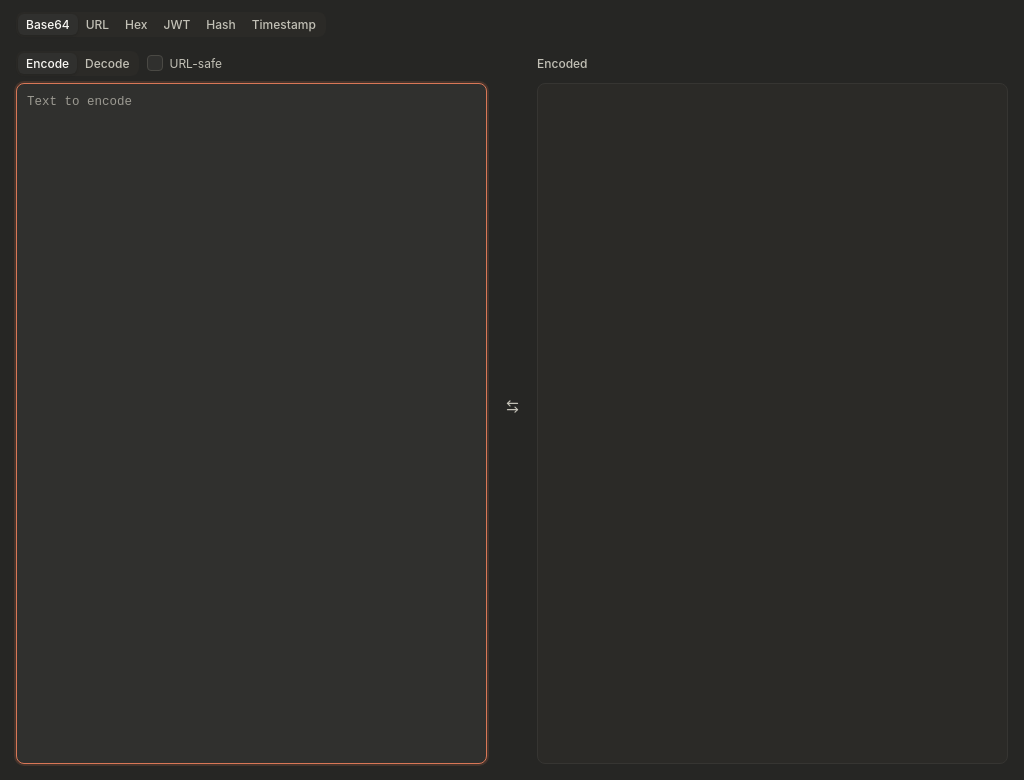
Test case: tool views › encoders convert as you type and switch modes
Type "héllo" into the text box named "Input".
click(252, 424); type("héllo")  # box top-left (16, 83), bottom-right (487, 764)
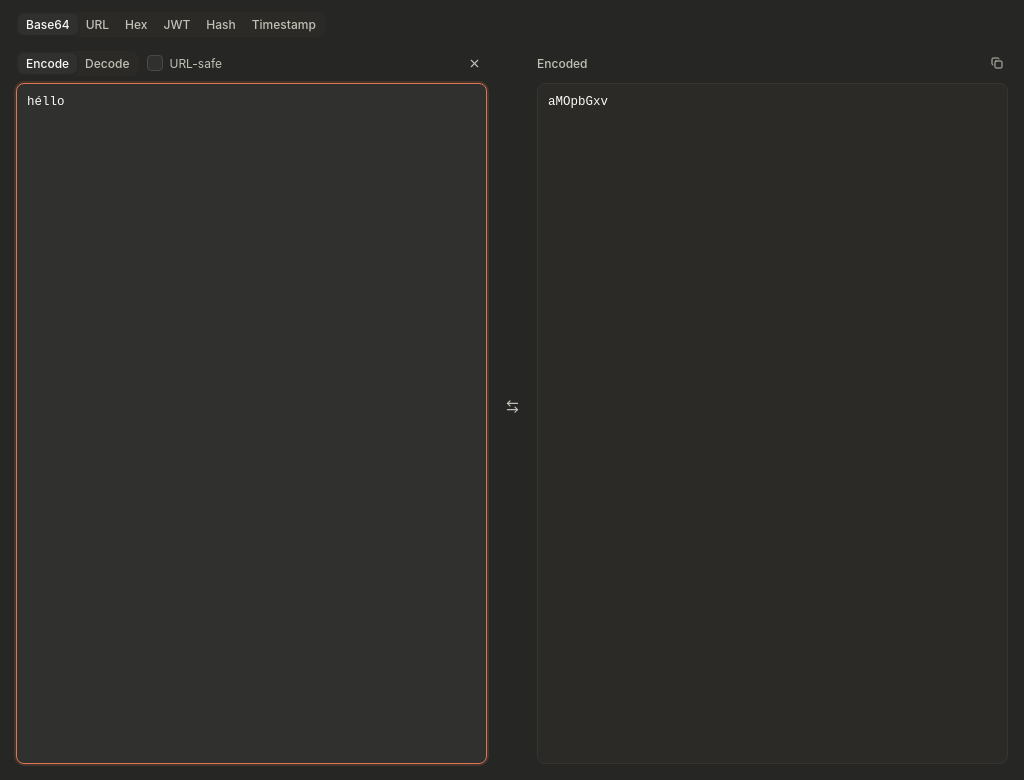
Expected: the text box named "Output" holds "aMOpbGxv", top-left (537, 83), bottom-right (1008, 764)
Click the button "Decode".
click(107, 63)  # box top-left (77, 53), bottom-right (138, 74)
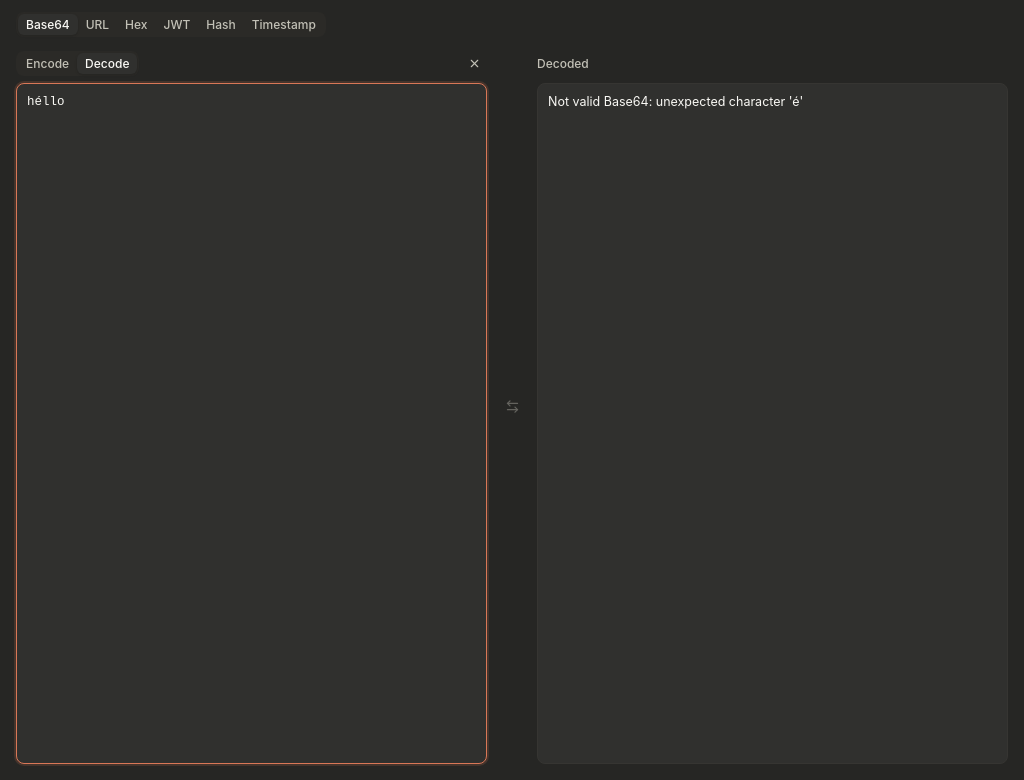
Expected: the message shows "Base64", top-left (548, 94), bottom-right (803, 109)
Click the button "Timestamp".
click(284, 25)  # box top-left (244, 14), bottom-right (324, 35)
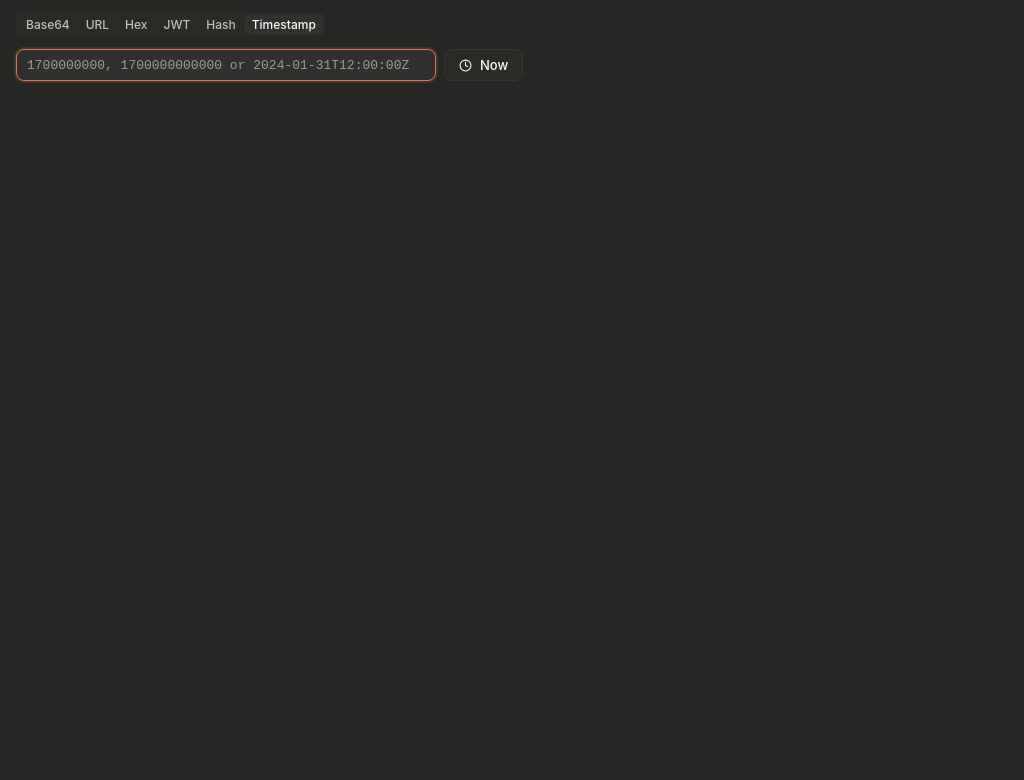
Type "0" into the field named "Timestamp or date".
click(226, 65); type("0")  # box top-left (16, 49), bottom-right (436, 81)
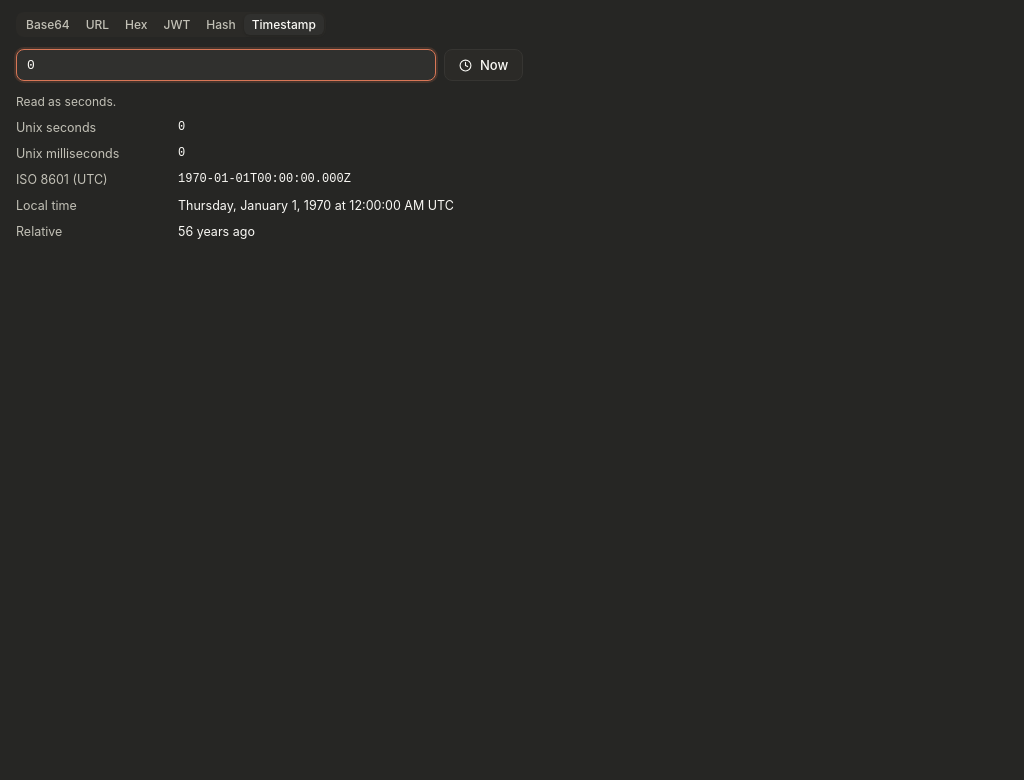
Expected: the text "1970-01-01T00:00:00.000Z" is shown, top-left (178, 171), bottom-right (351, 188)
Click the button "JWT".
click(177, 25)  # box top-left (156, 14), bottom-right (198, 35)
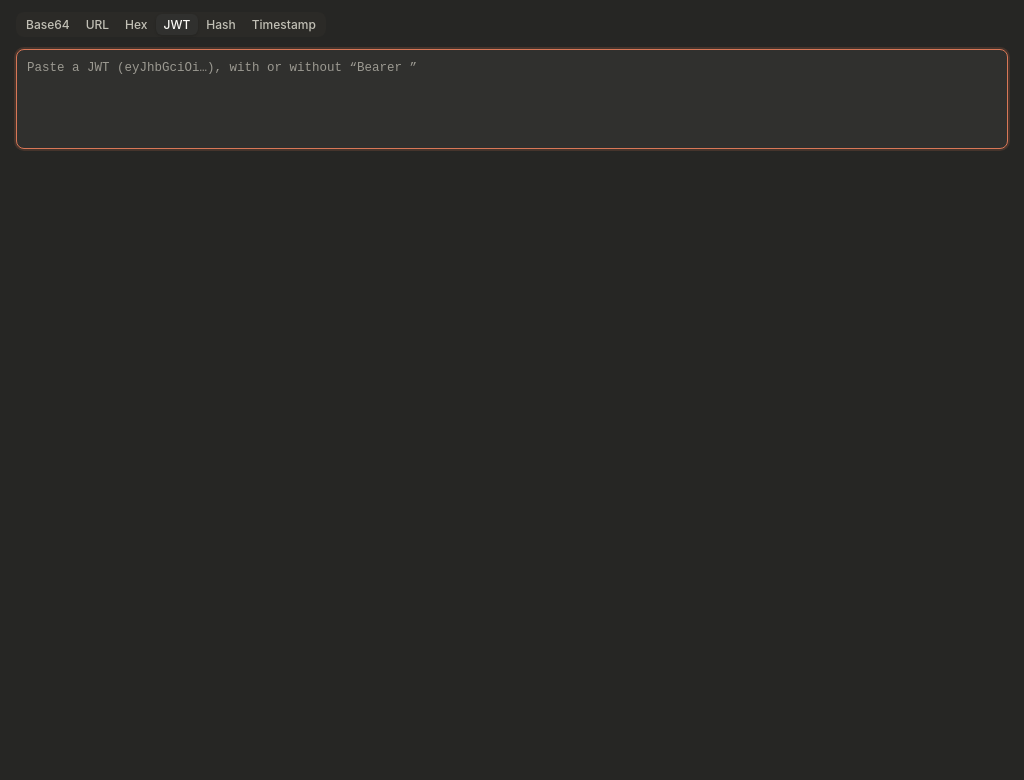
Type "abc.def" into the text box named "Token".
click(512, 99); type("abc.def")  # box top-left (16, 49), bottom-right (1008, 149)
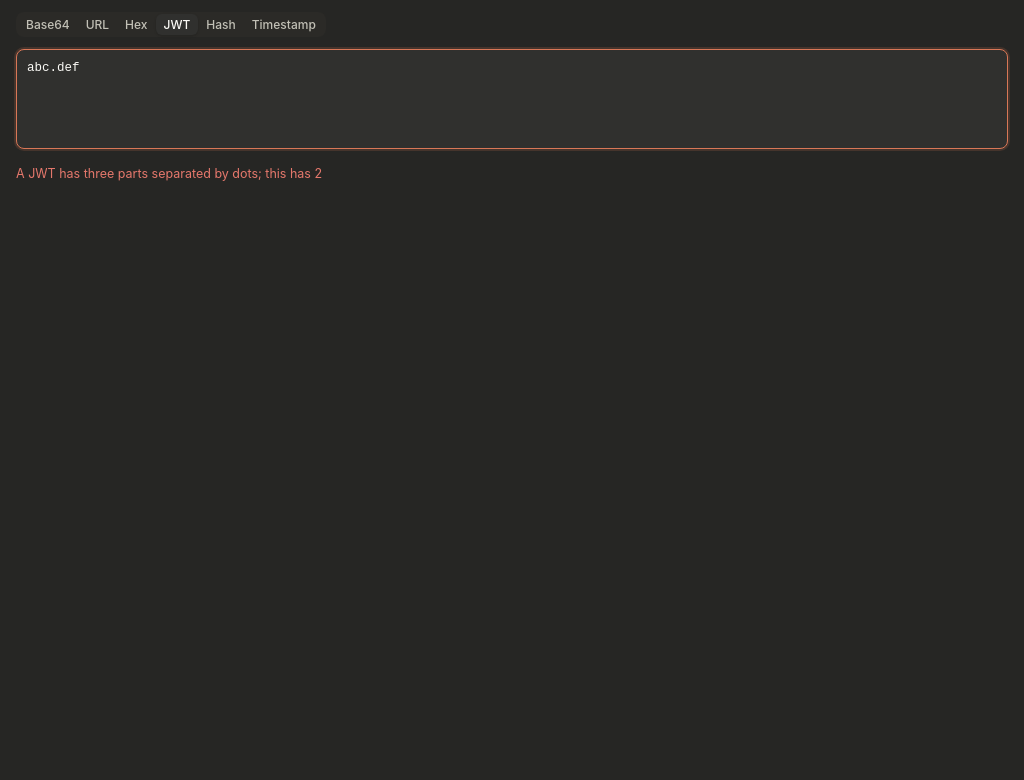
Expected: the text "A JWT has three parts separated by dots; this has 2" is shown, top-left (16, 166), bottom-right (322, 182)
